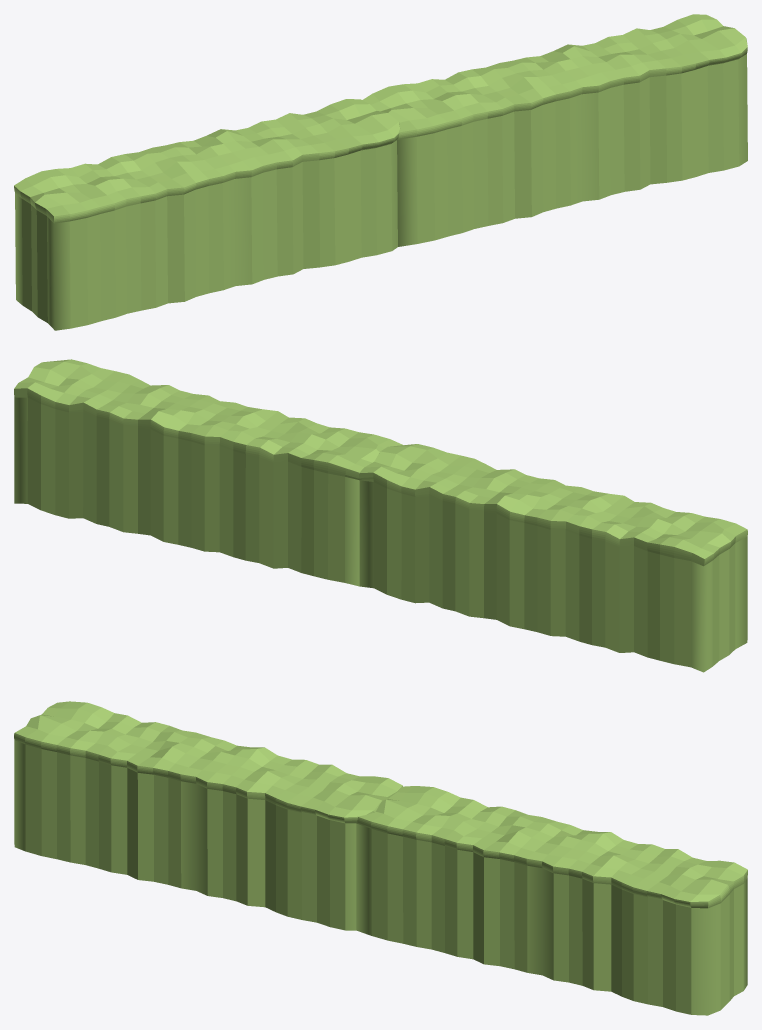
File: floor4.fbx
3 views of the same model, one above another, from view 1: azimuth 30°, elevation 25°; view 2: azimuth 150°, elevation 25°; view 3: azimuth 330°, elevation 25° (orthographic).
Parts seen in each view (by area): view 1: floor; view 2: floor; view 3: floor.
Part boxes in pixels (left/top/right/bottom): floor: left=14, top=14, right=747, bottom=330; floor: left=14, top=359, right=747, bottom=672; floor: left=14, top=701, right=747, bottom=1015.
Bounding box in the file's own units: 65.77 × 549 × 92.33.
